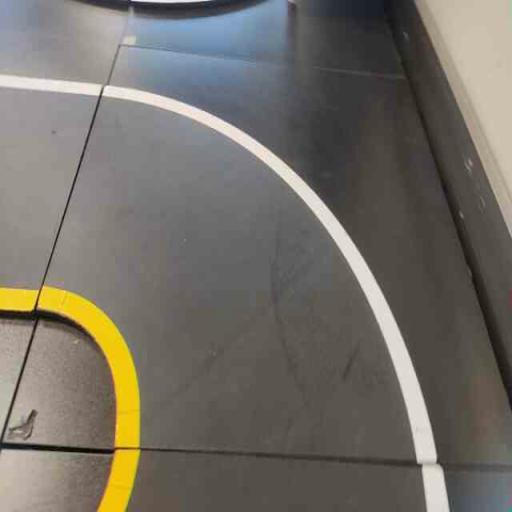left: (1, 54, 450, 465)
